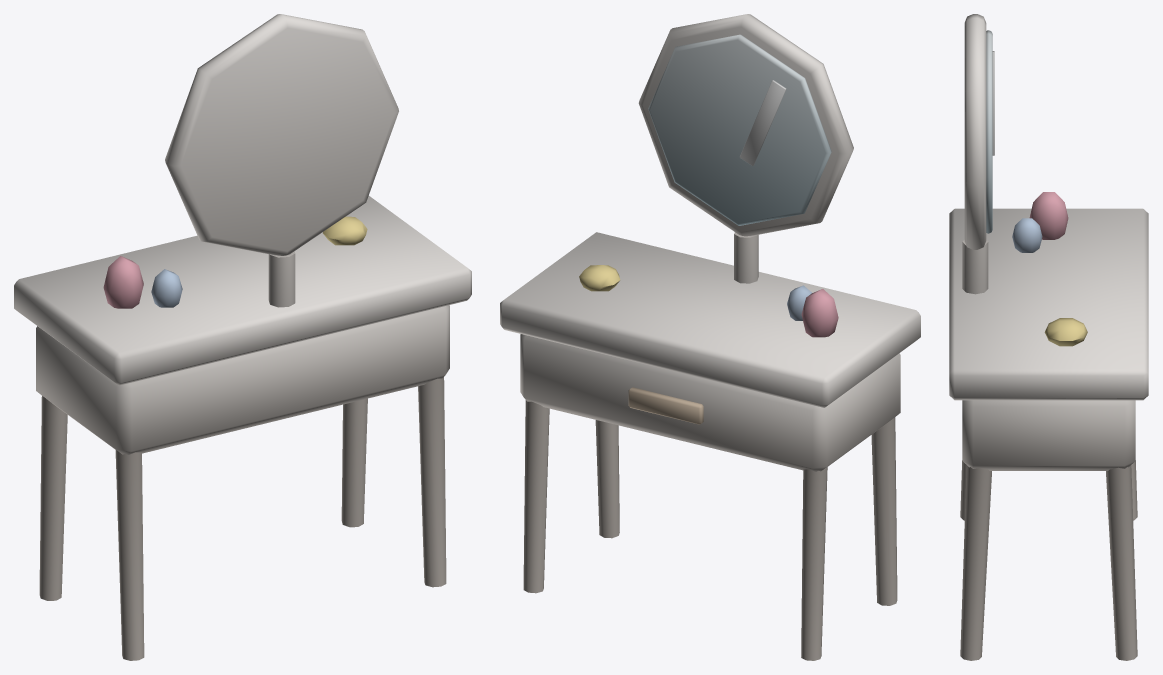
File: vanity_mirror.glb
3 views of the same model, side by side, from view 1: azimuth 30°, elevation 25°; view 2: azimuth 150°, elevation 25°; view 3: azimuth 270°, elevation 25° (orthographic). The views are drawn at different scales.
Parts seen in each view (by area): view 1: vanity_mirror; view 2: vanity_mirror; view 3: vanity_mirror.
Part boxes in pixels (left/top/right/bottom): vanity_mirror: left=14, top=14, right=471, bottom=660; vanity_mirror: left=500, top=14, right=920, bottom=660; vanity_mirror: left=949, top=14, right=1148, bottom=660.
Bounding box in the file's own units: 0.9 × 1.45 × 0.46.
